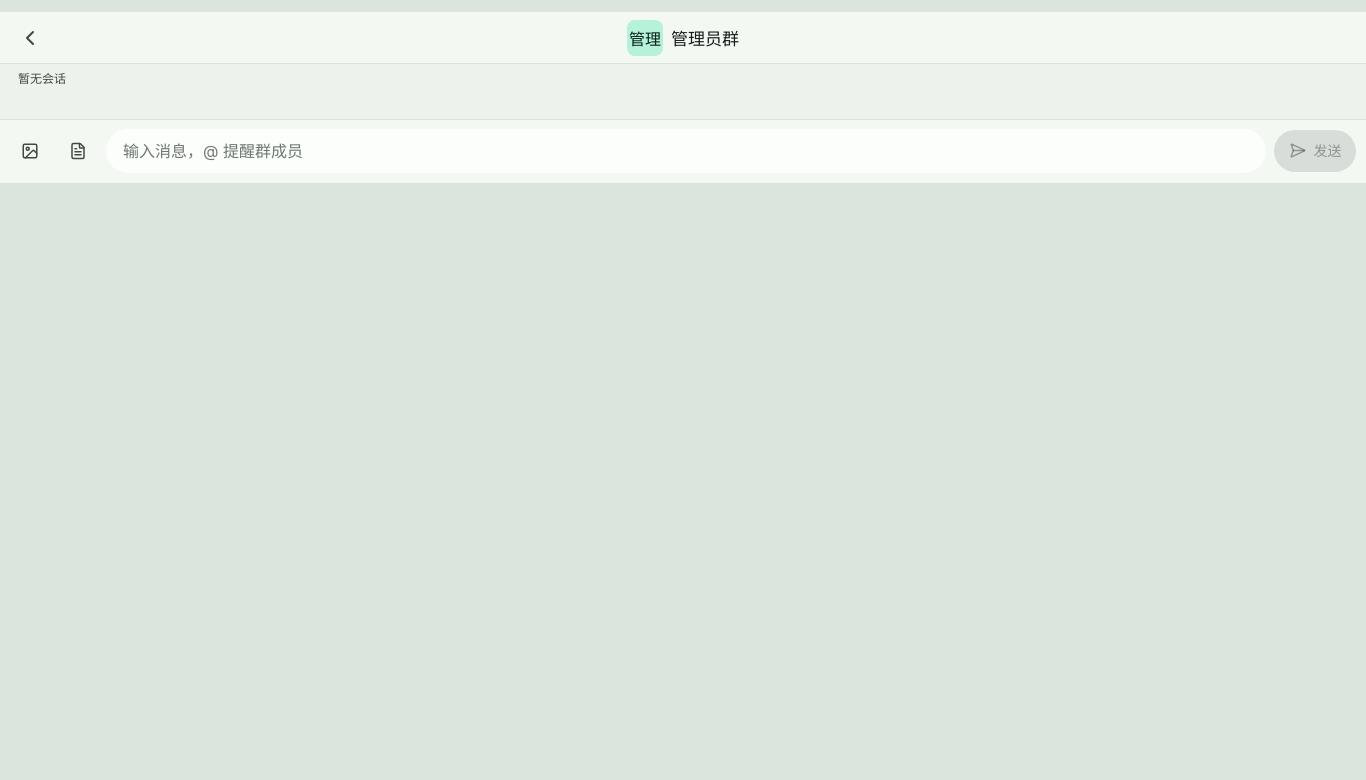
MessagesPage real API mode › shows admin management controls while keeping owner and admin members protected from admin kick
This screenshot has width=1366, height=780.
Check: the heading "管理员群" is shown, box [671,25,739,50]
Click the button with aria-label "打开群管理 管理员群".
click(683, 38)  # box [54,16,1312,60]
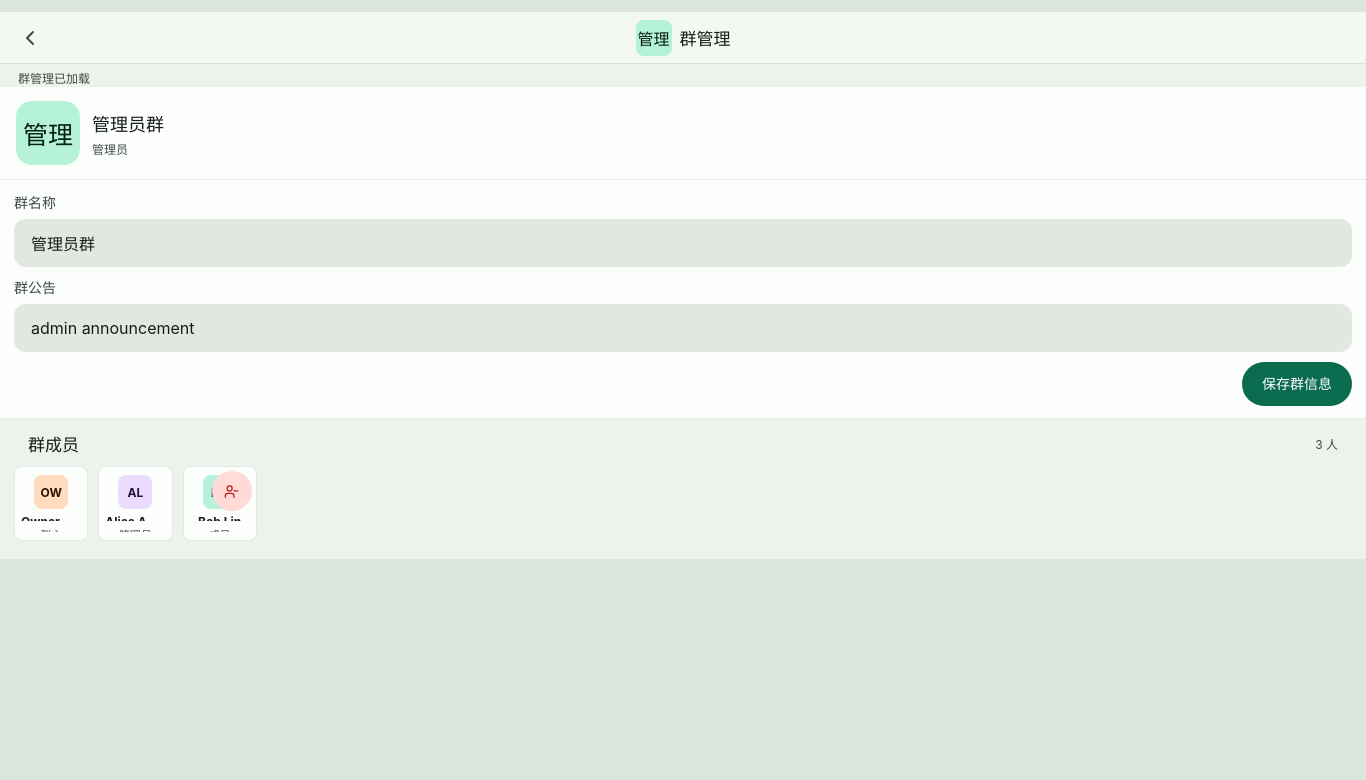
Check: the field labelled "群名称" holds "管理员群", box [29,232,1337,254]
Check: the field labelled "群公告" holds "admin announcement", box [29,317,1337,339]
Check: the button named "踢出 Bob Lin" is shown, box [212,471,252,511]
